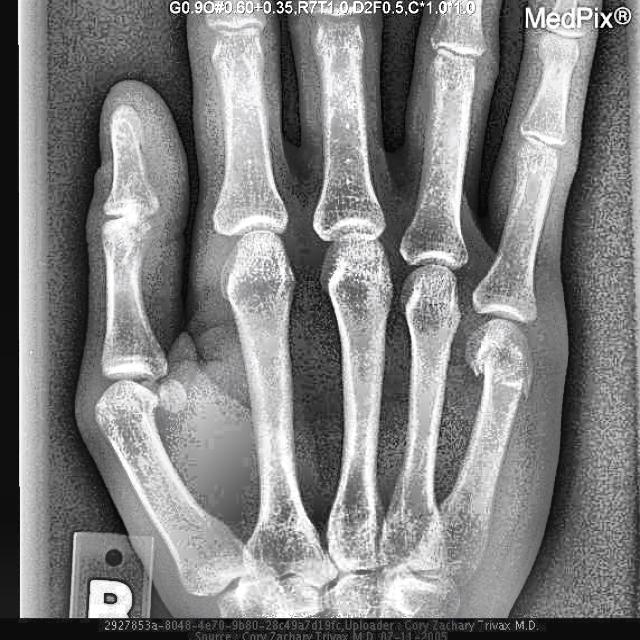fracture: (471, 338, 536, 402)
